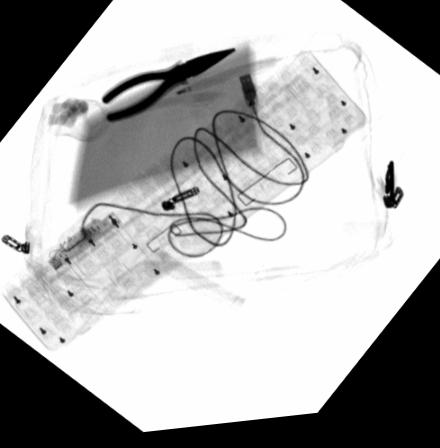Pliers: (98, 51, 238, 126)
